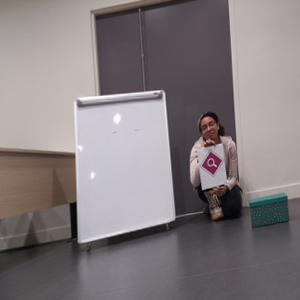search: (201, 150, 223, 175)
